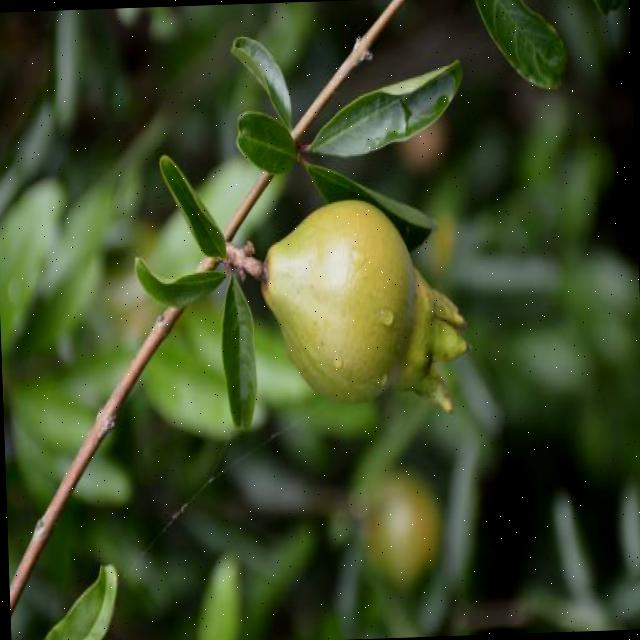Unripe: (257, 192, 475, 429)
